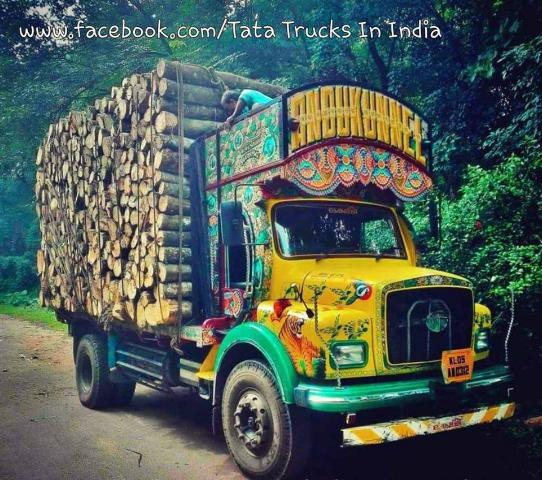truck: (30, 68, 536, 478)
